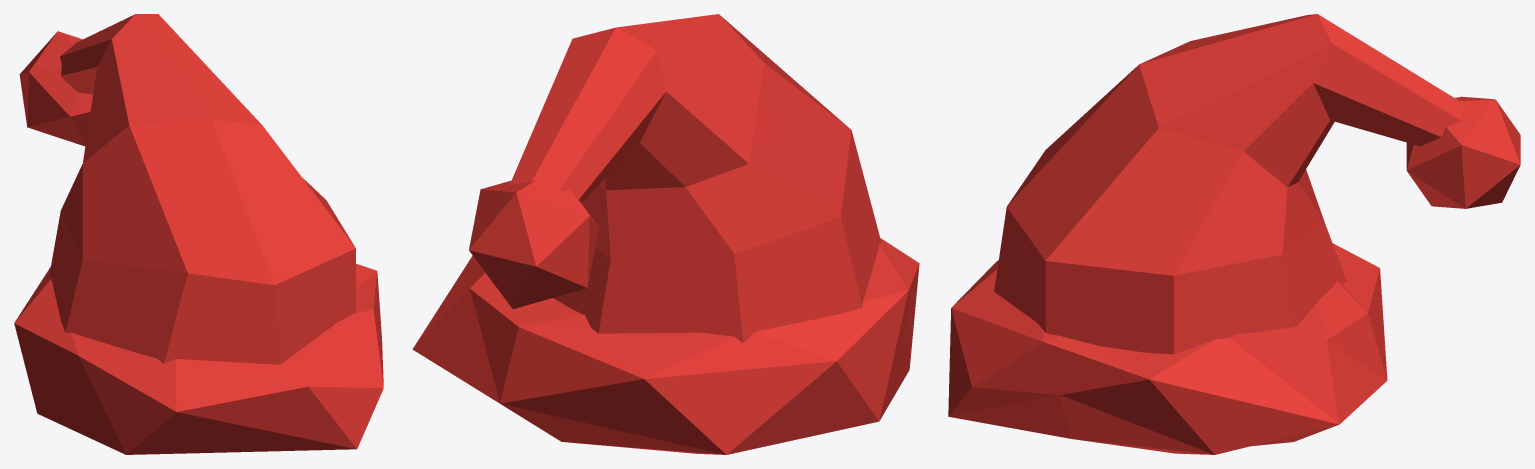
Rendered from SM_Hat_Santa.fbx.
3 renders of one model, left to right at view 1: azimuth 30°, elevation 25°; view 2: azimuth 150°, elevation 25°; view 3: azimuth 270°, elevation 25°, orthographic. The views are drawn at different scales.
Visible parts, largest first — view 1: hat-santa; view 2: hat-santa; view 3: hat-santa.
Boxes of the visible parts, <box> form: hat-santa: <box>14,14,383,454</box>; hat-santa: <box>412,14,919,454</box>; hat-santa: <box>948,14,1520,454</box>.
Size of the model in its own units: 0.2538 by 0.2562 by 0.3467.
